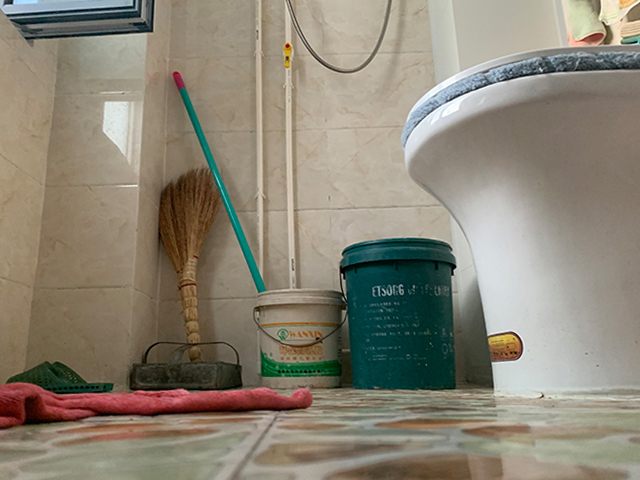closestool: (402, 43, 640, 396)
slippers: (5, 358, 114, 394)
